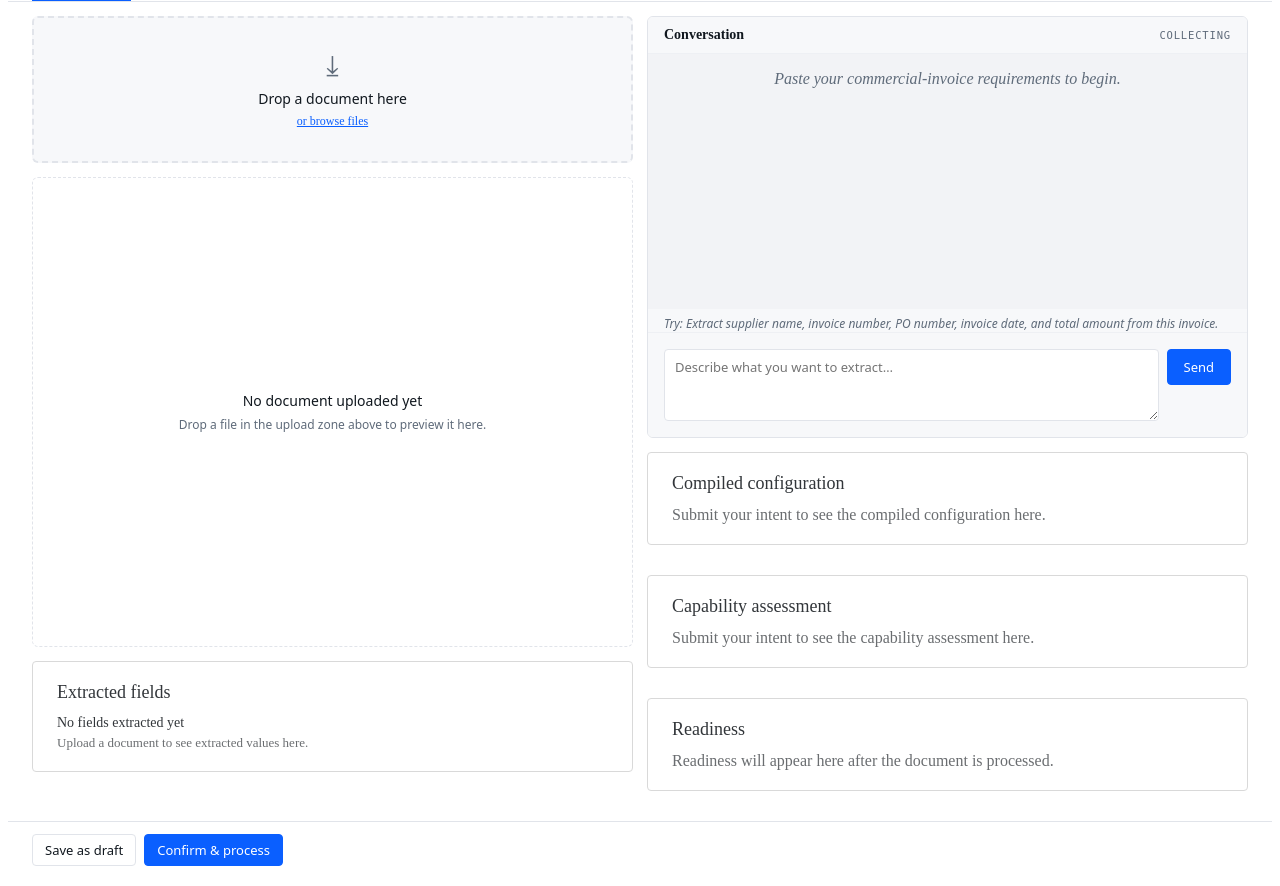
F-11 CustomerRoute REBUILD — chrome + chat-first surface › HAPPY-10: Confirm-&-process click surfaces a toast and mutates ZERO entity stores
The width and height of the screenshot is (1280, 886).
(page scrolled)
Click the button with test id "customer-readiness-confirm-process" at (214,850), box [144,834,283,866]
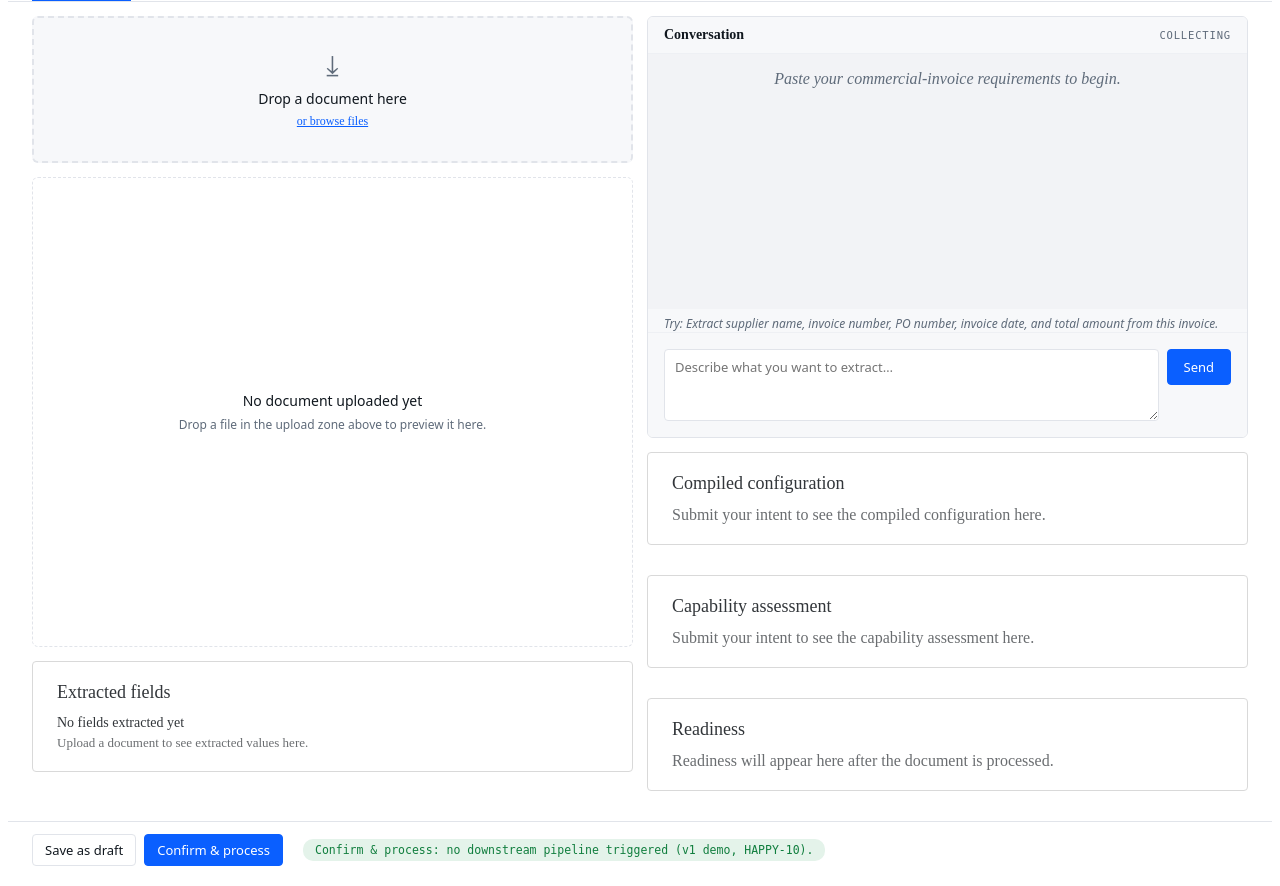
Check: the message with test id "customer-readiness-toast" shows "Confirm & process", box [315,843,814,857]
